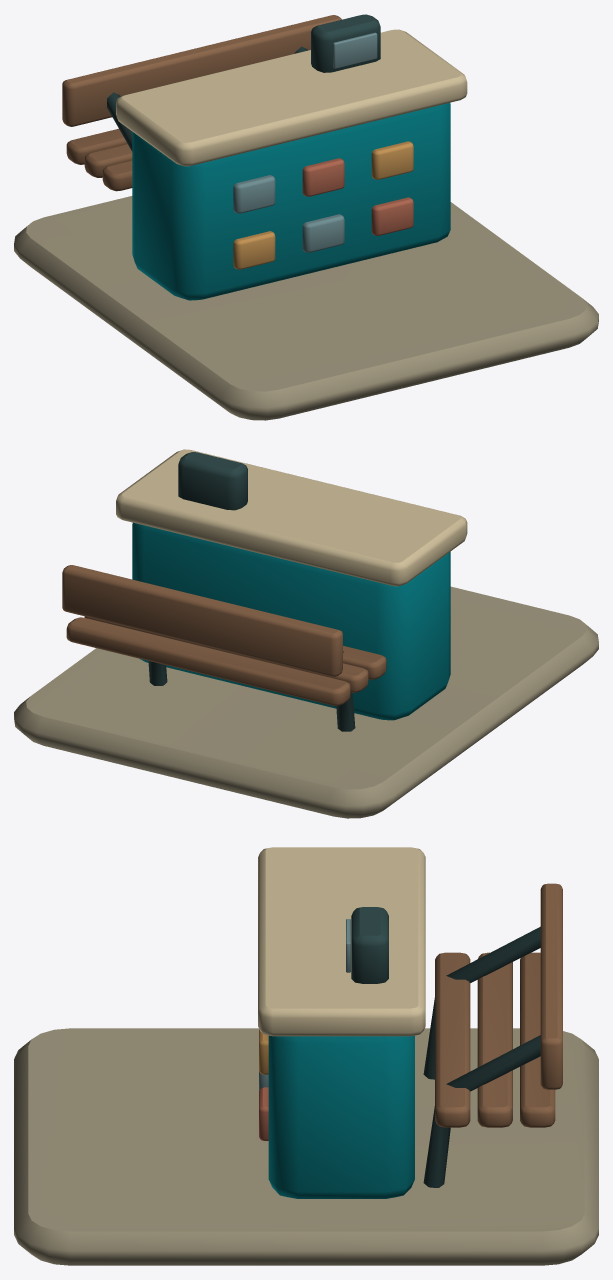
Rendered from ocean_restaurant_1.glb.
3 views of the same model, one above another, from view 1: azimuth 30°, elevation 25°; view 2: azimuth 150°, elevation 25°; view 3: azimuth 270°, elevation 25° (orthographic). The views are drawn at different scales.
Visible parts, largest first — view 1: Restaurant1; view 2: Restaurant1; view 3: Restaurant1.
Part boxes in pixels (x1,y1,x2,y2): Restaurant1: (14,14,598,420); Restaurant1: (14,449,598,818); Restaurant1: (14,847,598,1265).
Bounding box in the file's own units: 2.16 × 1.32 × 2.48.
